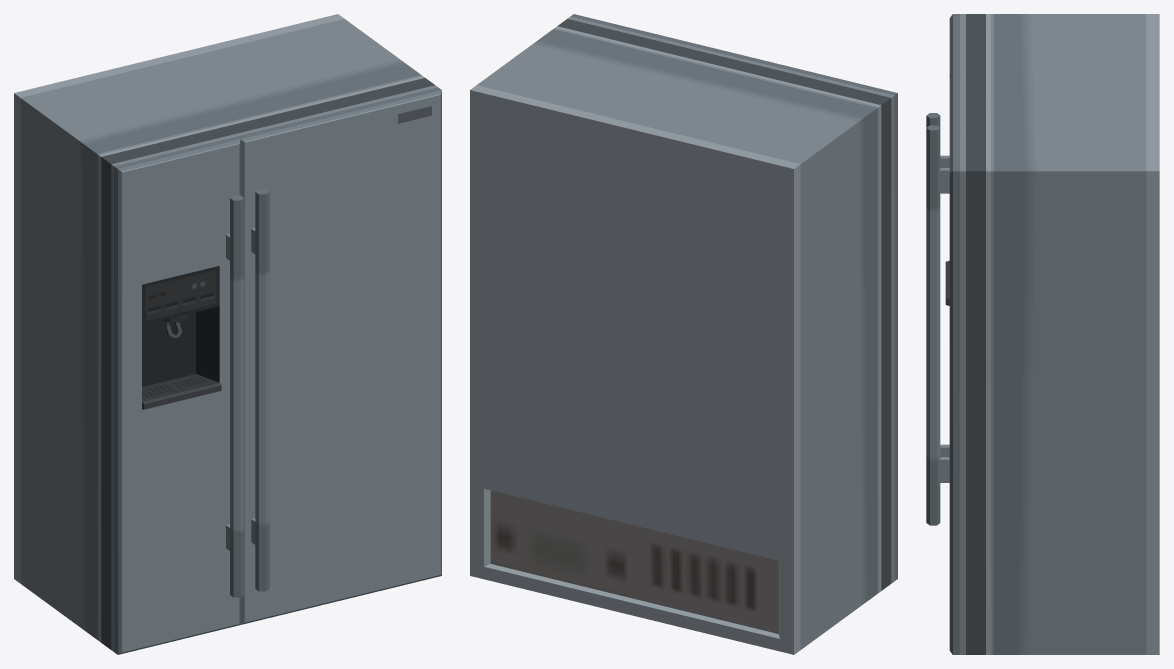
The model's file is SM_Prop_Fridge_01.fbx.
The picture shows the model from 3 angles, left to right: view 1: azimuth 30°, elevation 25°; view 2: azimuth 150°, elevation 25°; view 3: azimuth 270°, elevation 25°; orthographic projection.
Parts seen in each view (by area): view 1: SM_Prop_Fridge_01; view 2: SM_Prop_Fridge_01; view 3: SM_Prop_Fridge_01.
Part boxes in pixels (x1,y1,x2,y2): SM_Prop_Fridge_01: (14, 14, 441, 654); SM_Prop_Fridge_01: (470, 14, 897, 654); SM_Prop_Fridge_01: (926, 14, 1159, 654).
Bounding box in the file's own units: 150 × 215 × 94.07.
